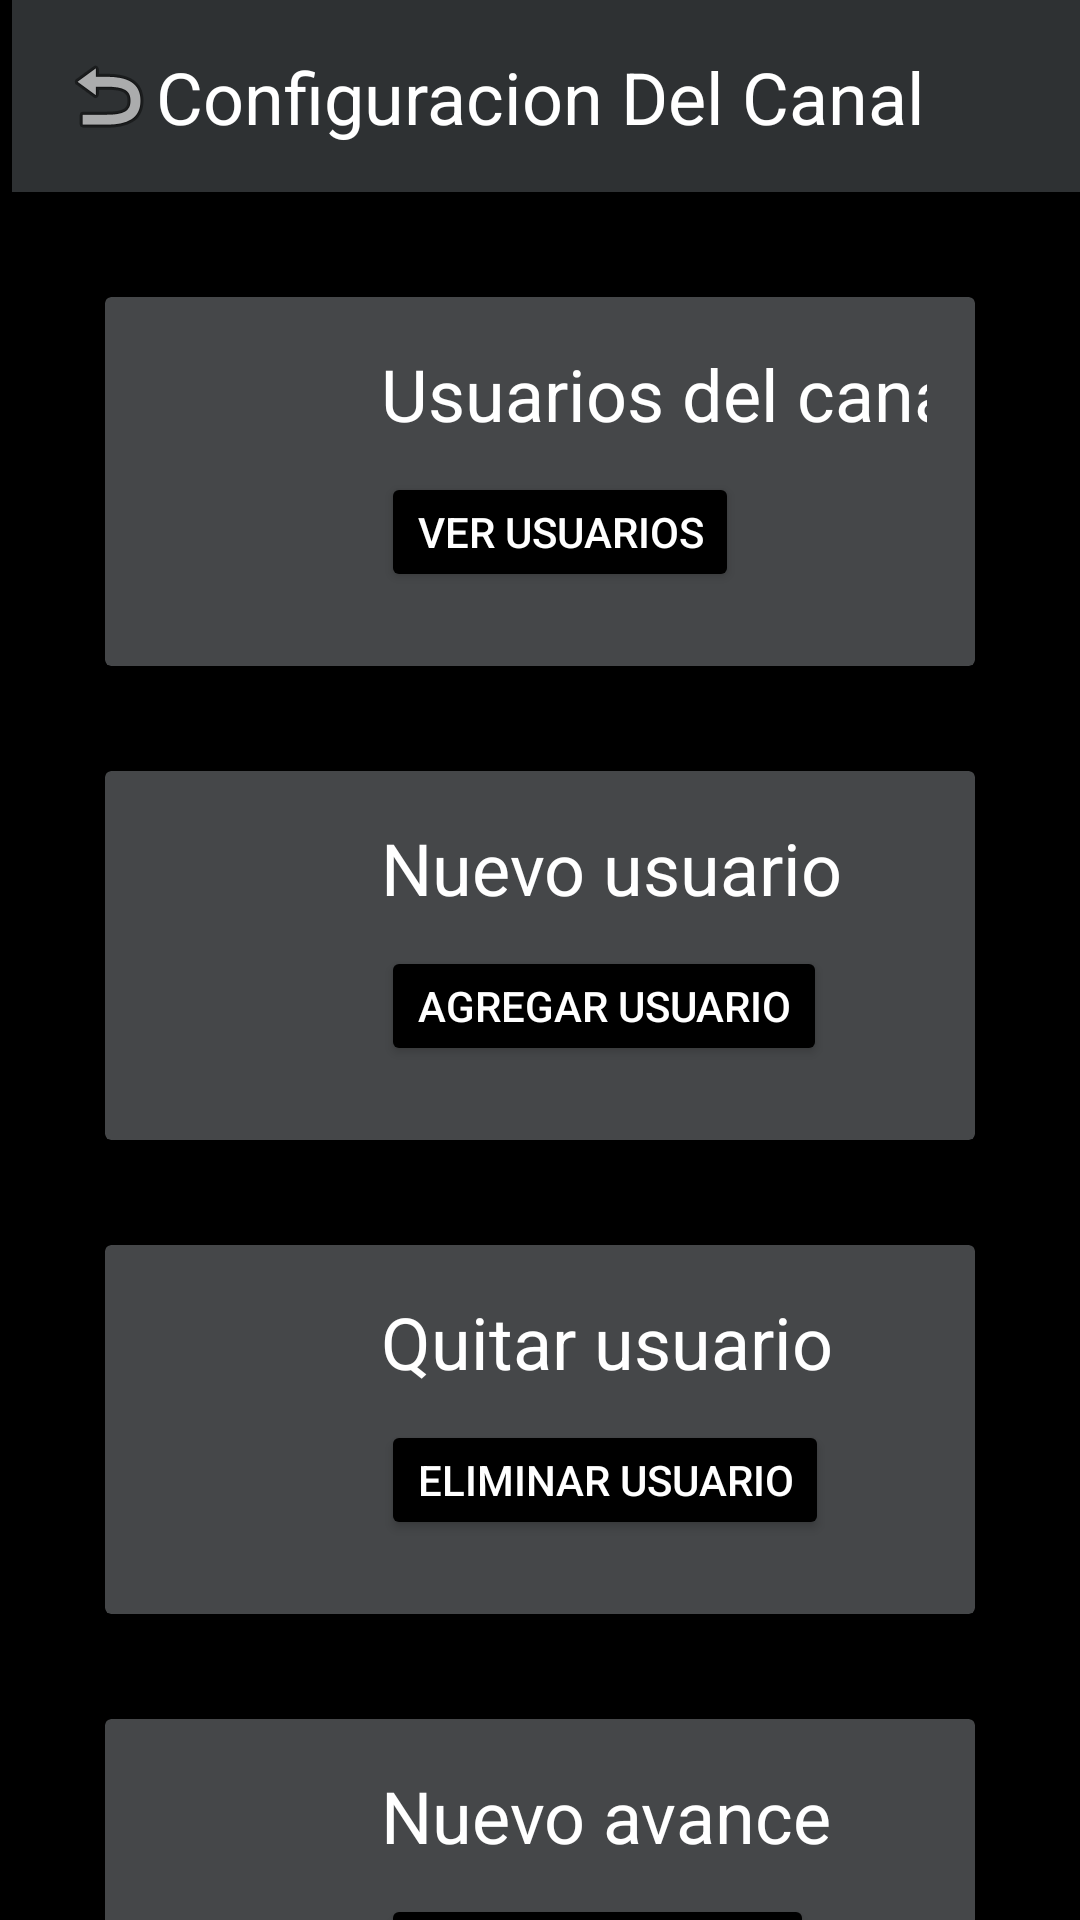

Icons on this 1080x1920 Android screen, each with the point to tap as [x,y]:
revert: [109,97]
